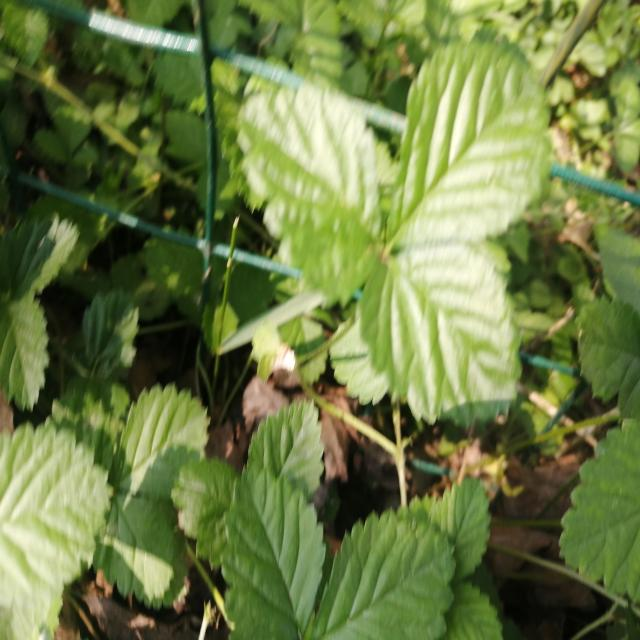Mock_strawberry: (188, 438, 500, 632)
